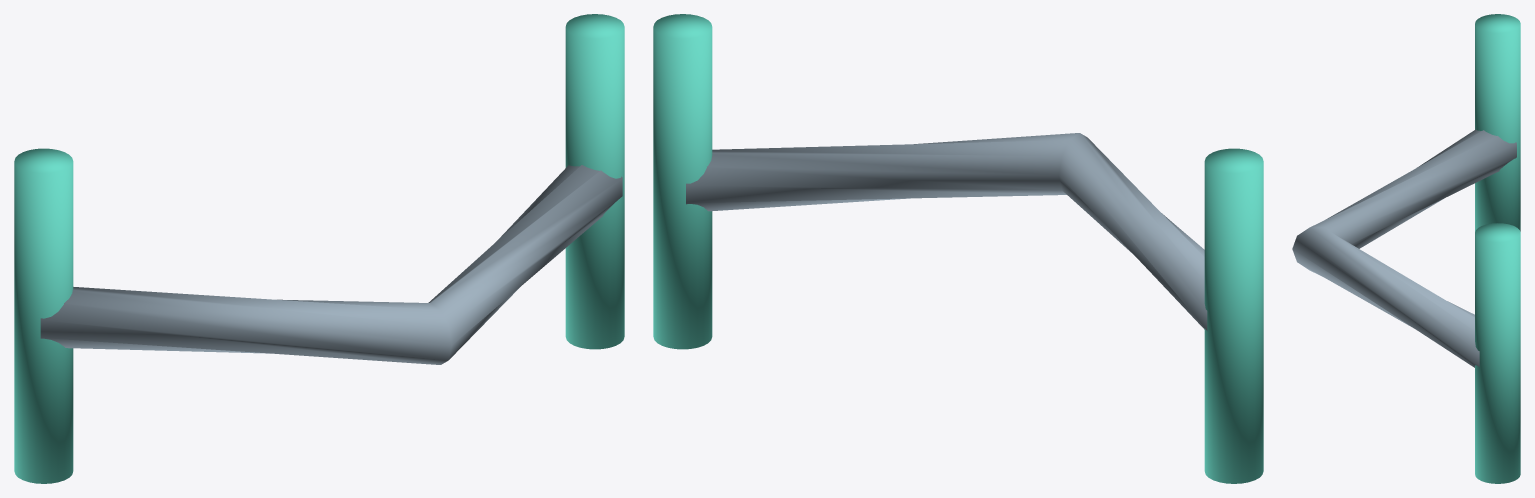
File: row_v_handle.glb
3 views of the same model, side by side, from view 1: azimuth 30°, elevation 25°; view 2: azimuth 150°, elevation 25°; view 3: azimuth 270°, elevation 25° (orthographic). The views are drawn at different scales.
Parts seen in each view (by area): view 1: handle_frame, handle_R, handle_L; view 2: handle_frame, handle_R, handle_L; view 3: handle_frame, handle_L, handle_R.
Boxes of the visible parts, <box> form: handle_frame: <box>40,165,622,364</box>; handle_R: <box>14,148,73,483</box>; handle_L: <box>565,14,624,349</box>; handle_frame: <box>686,133,1207,330</box>; handle_R: <box>1204,148,1263,483</box>; handle_L: <box>653,14,712,349</box>; handle_frame: <box>1292,129,1516,367</box>; handle_L: <box>1475,223,1520,483</box>; handle_R: <box>1475,14,1520,231</box>.
Size of the model in its own units: 0.284 by 0.14 by 0.12.
